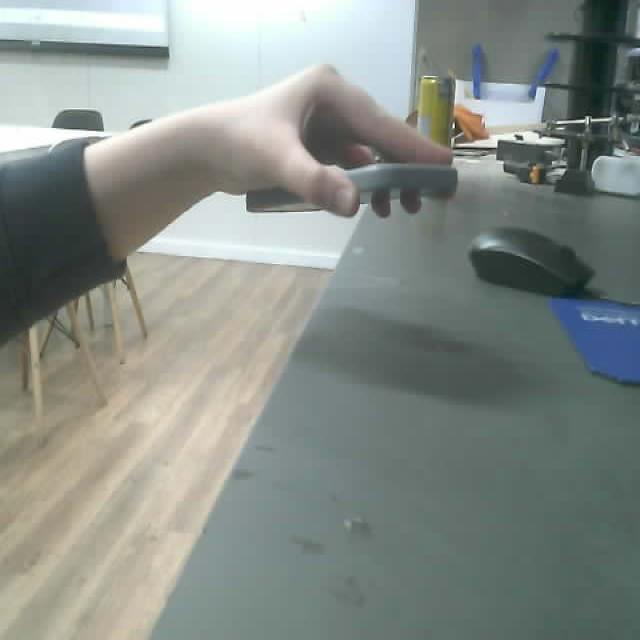phone: (246, 164, 458, 212)
